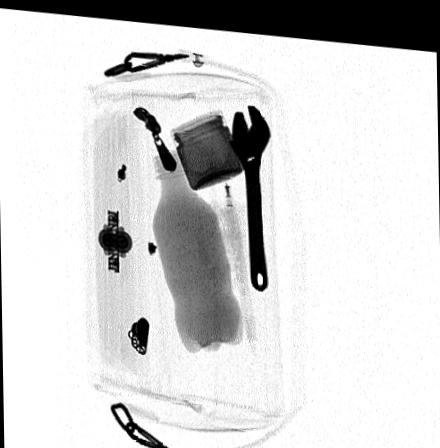Wrench: (228, 97, 270, 287)
